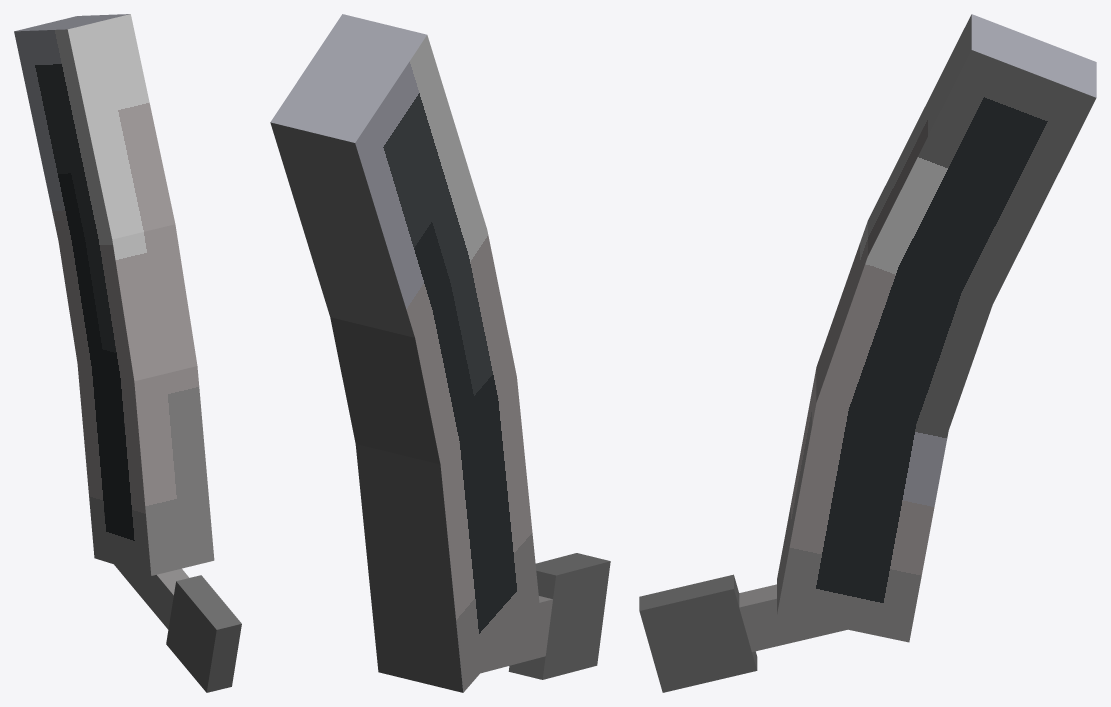
The model's file is expansion_link_otherside.obj.
3 views of the same model, side by side, from view 1: azimuth 30°, elevation 25°; view 2: azimuth 150°, elevation 25°; view 3: azimuth 270°, elevation 25° (orthographic). The views are drawn at different scales.
Visible parts, largest first — view 1: 月牙板; view 2: 月牙板; view 3: 月牙板.
Boxes of the visible parts, bbox=[...] form: 月牙板: bbox=[14, 14, 241, 692]; 月牙板: bbox=[270, 14, 610, 692]; 月牙板: bbox=[639, 14, 1096, 692].
Size of the model in its own units: 0.125 by 1.07 by 0.6734.
